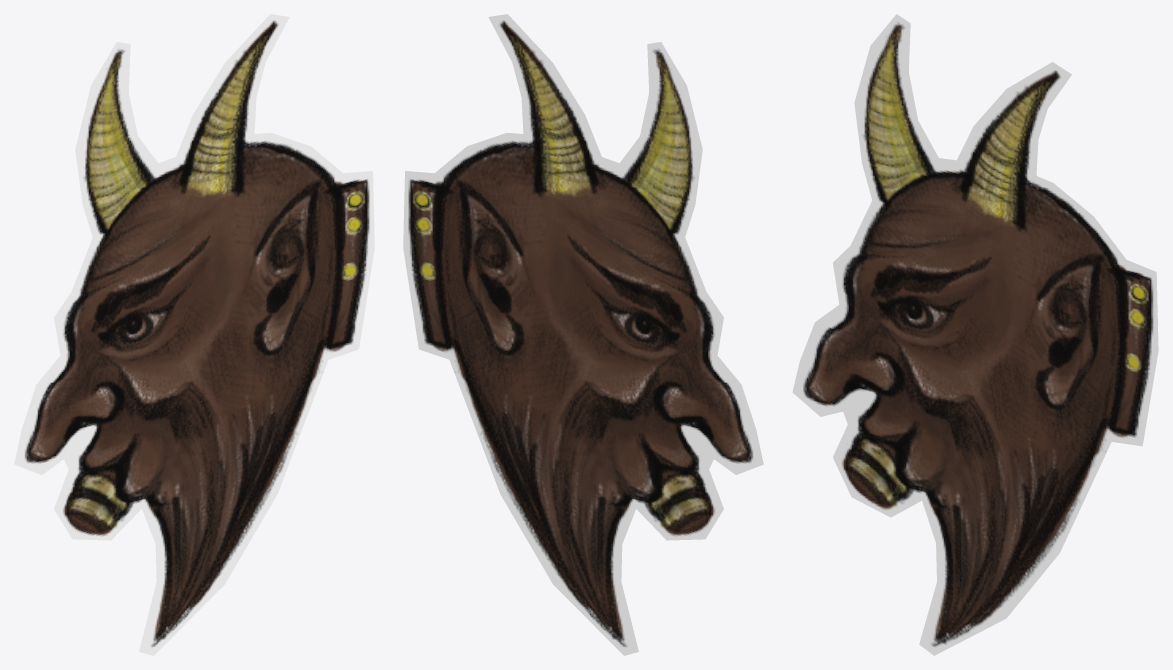
3 views of the same model, side by side, from view 1: azimuth 30°, elevation 25°; view 2: azimuth 150°, elevation 25°; view 3: azimuth 330°, elevation 25° (orthographic).
Parts seen in each view (by area): view 1: Plane; view 2: Plane; view 3: Plane.
Boxes of the visible parts, x1=… form: Plane: x1=14, y1=14, x2=374, y2=655; Plane: x1=403, y1=14, x2=763, y2=655; Plane: x1=792, y1=14, x2=1158, y2=655.
Size of the model in its own units: 2.27 by 3.75 by 0.
Materials: 1 (1 with a texture image).
